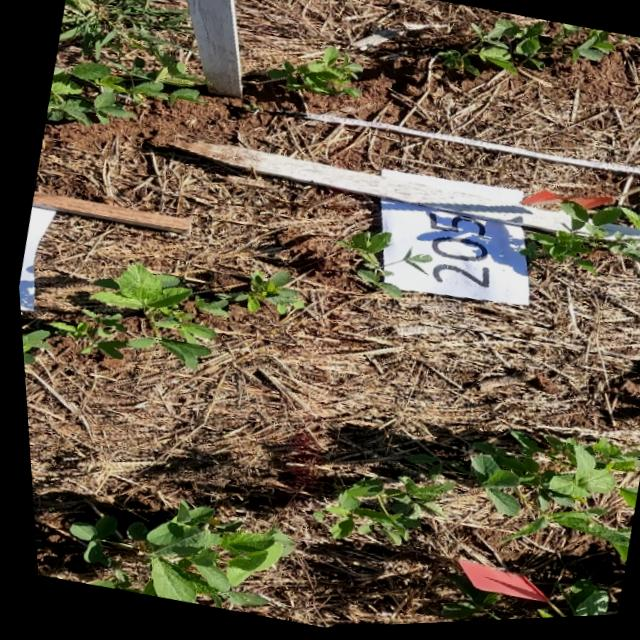grassy_weed: (58, 0, 188, 59)
soy_plant: (17, 263, 298, 369), (62, 502, 285, 610), (464, 435, 637, 564), (44, 55, 200, 125), (441, 23, 640, 76), (309, 479, 445, 547), (520, 205, 640, 277), (266, 47, 361, 99), (334, 234, 396, 300), (565, 590, 598, 621), (402, 256, 426, 273)
